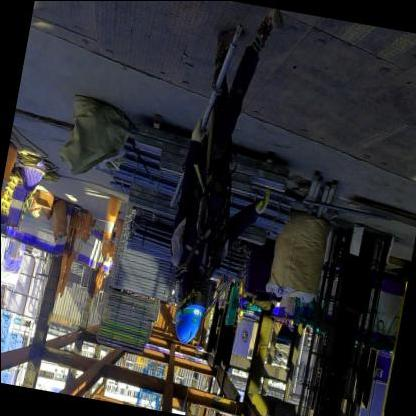Helmet: (157, 294, 208, 351)
safety-shoe: (207, 11, 248, 65), (249, 5, 292, 48)
